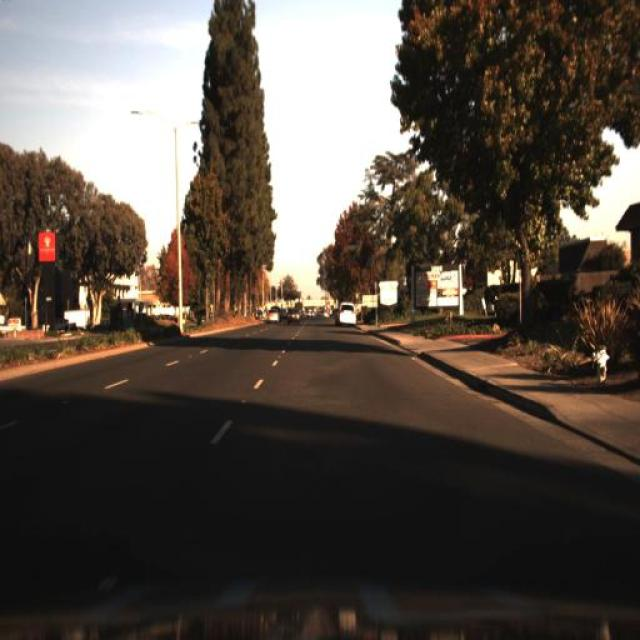car: (334, 292, 361, 336), (264, 304, 284, 328), (284, 302, 301, 328)
